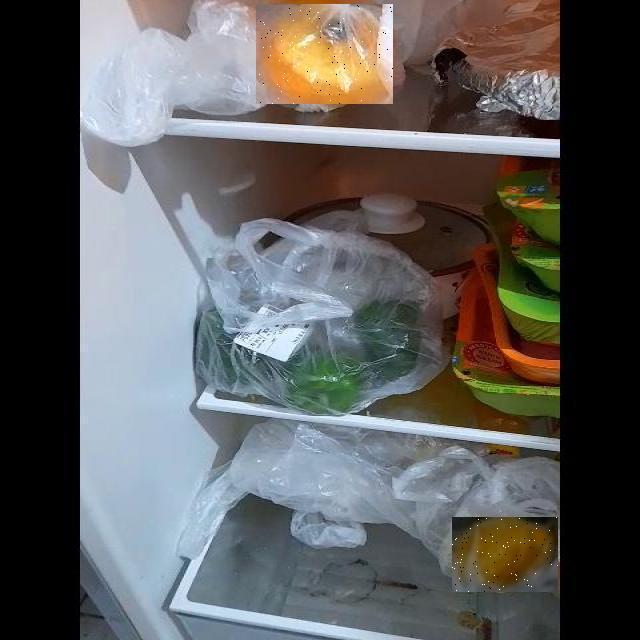Lemon: (256, 4, 393, 104), (452, 517, 558, 592)
